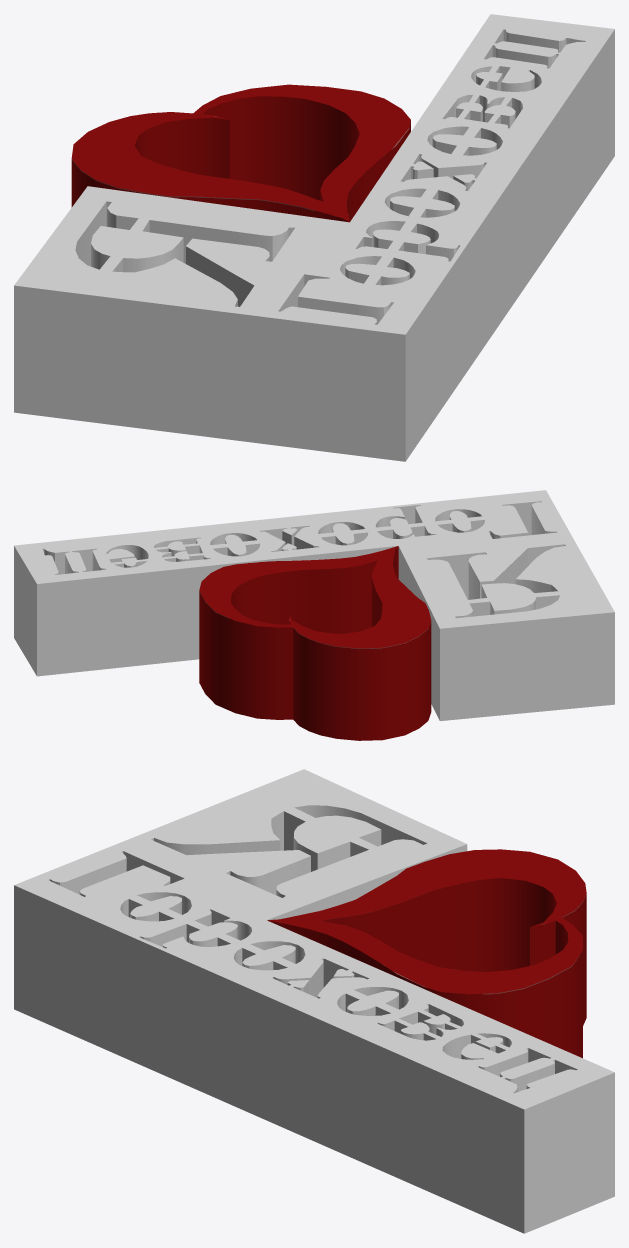
3 renders of one model, top to bottom at view 1: azimuth 30°, elevation 25°; view 2: azimuth 150°, elevation 25°; view 3: azimuth 270°, elevation 25°, orthographic. The views are drawn at different scales.
Visible parts, largest first — view 1: Plane.001; view 2: Plane.001; view 3: Plane.001.
Boxes of the visible parts, x1,y1,x2,y2 form: Plane.001: [14, 14, 614, 461]; Plane.001: [14, 490, 614, 740]; Plane.001: [14, 769, 614, 1233].
Bounding box in the file's own units: 1.72 × 0.2934 × 1.29.
Materials: 1 (1 with a texture image).
